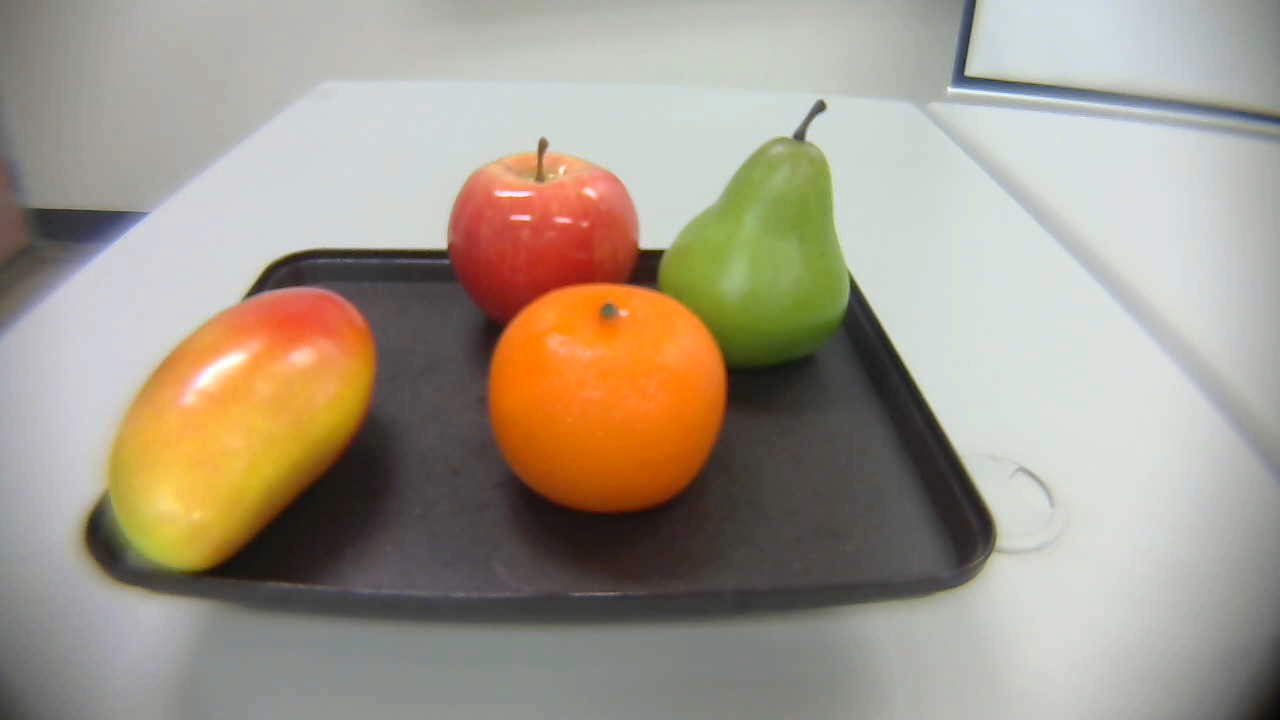green pear: (658, 91, 857, 364)
orange: (483, 284, 728, 518)
red apple: (440, 139, 657, 336)
red mango: (98, 283, 390, 586)
